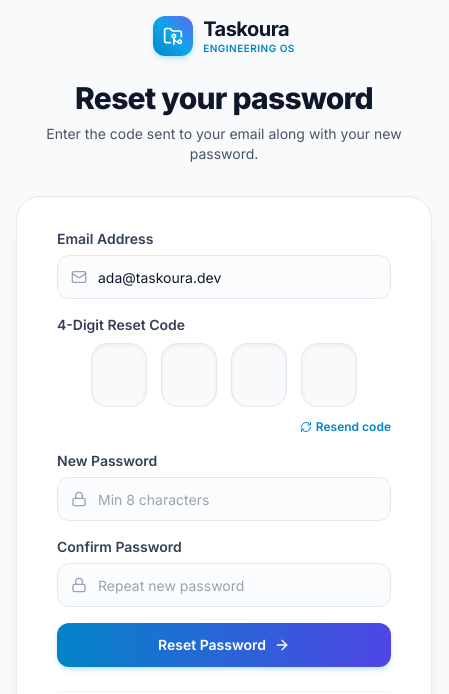
Test: MODULE F16: Profile and Password Reset › ResetPasswordPage: Validation, Error Handling, and Resend Cooldown › blocks submission when passwords do not match
The width and height of the screenshot is (449, 694).
// OtpInput inputs
Type "1" into the field named "Digit 1". click: (119, 375)
box: top-left (91, 343), bottom-right (147, 407)
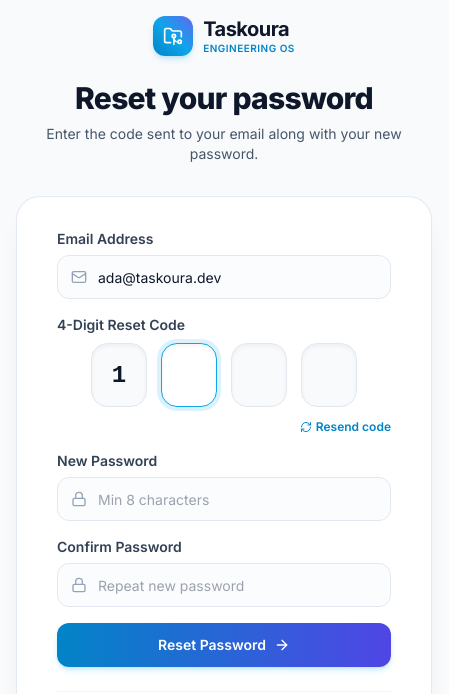
Type "2" into the field named "Digit 2". click: (189, 375)
box: top-left (161, 343), bottom-right (217, 407)
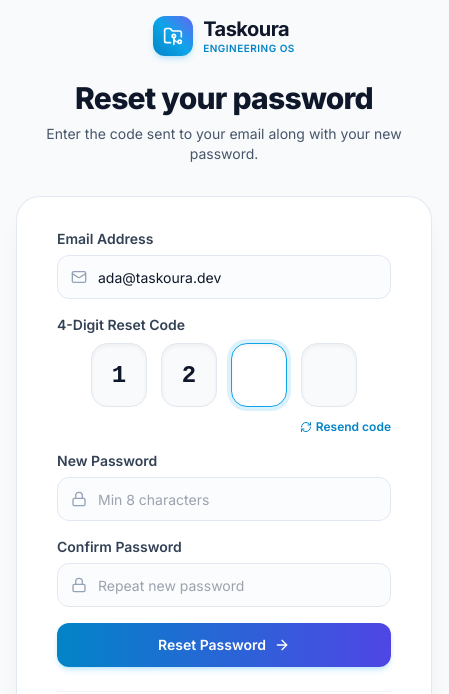
Type "3" into the field named "Digit 3". click: (259, 375)
box: top-left (231, 343), bottom-right (287, 407)
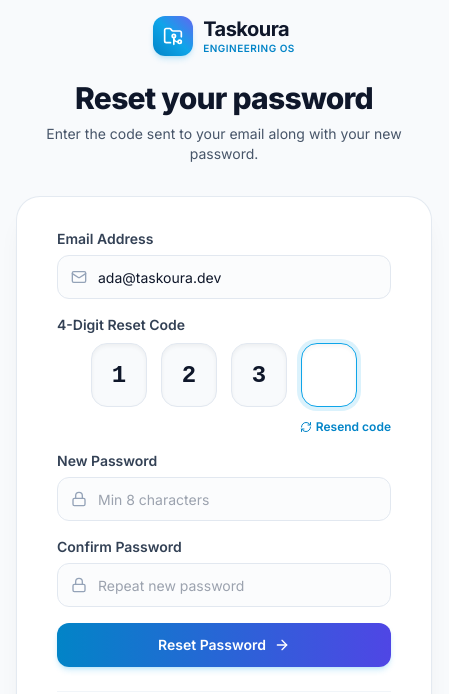
Type "4" into the field named "Digit 4". click: (329, 375)
box: top-left (301, 343), bottom-right (357, 407)
Type "Password123!" into the password field with test id "input-new-password". click: (224, 499)
box: top-left (57, 477), bottom-right (391, 521)
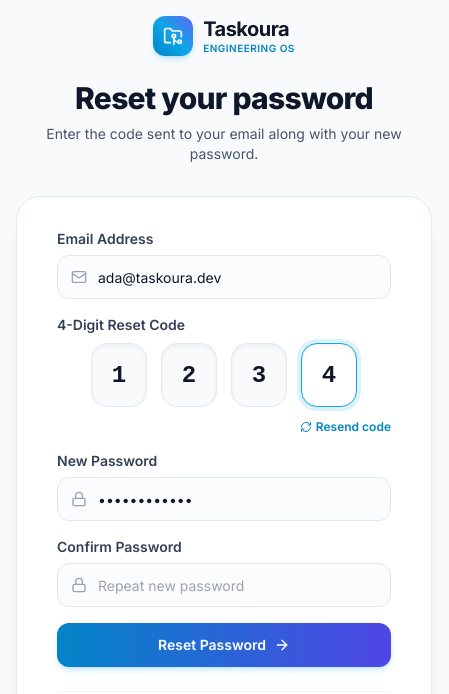
Type "Mismatch999!" into the password field with test id "input-confirm-password". click: (224, 585)
box: top-left (57, 563), bottom-right (391, 607)
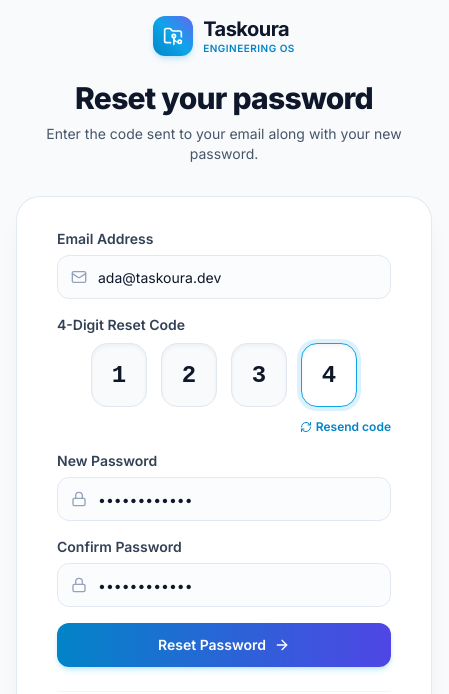
Click the button with test id "btn-reset-submit". click: (224, 645)
box: top-left (57, 623), bottom-right (391, 667)
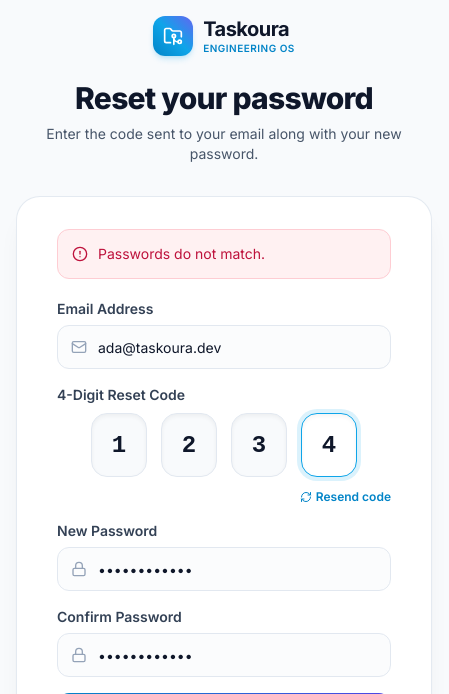
Expected: the element with test id "reset-password-error" reads "Passwords do not match.", top-left (98, 245), bottom-right (265, 262)
